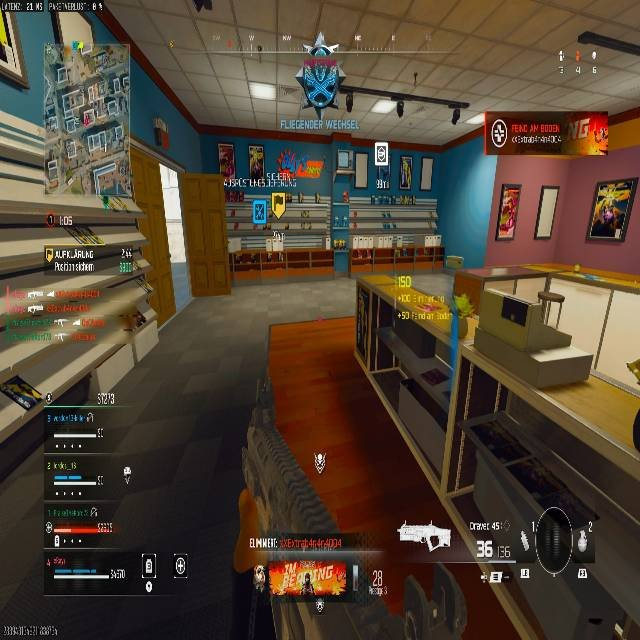player: (296, 58, 346, 116)
